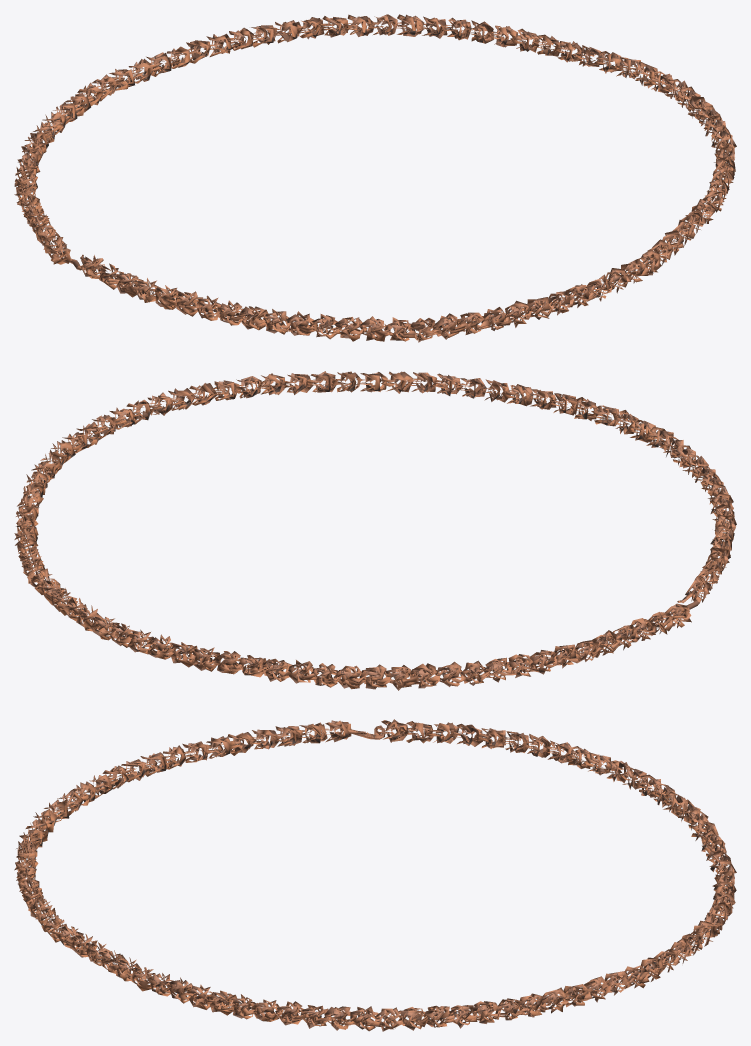
File: necklace1.fbx
3 renders of one model, top to bottom at view 1: azimuth 30°, elevation 25°; view 2: azimuth 150°, elevation 25°; view 3: azimuth 270°, elevation 25°, orthographic.
Parts seen in each view (by area): view 1: Necklace_M_Gold_0.001; view 2: Necklace_M_Gold_0.001; view 3: Necklace_M_Gold_0.001.
Boxes of the visible parts, <box> form: Necklace_M_Gold_0.001: <box>14,14,736,342</box>; Necklace_M_Gold_0.001: <box>14,371,736,690</box>; Necklace_M_Gold_0.001: <box>14,719,736,1031</box>.
Bounding box in the file's own units: 47.93 × 2.45 × 47.17.
